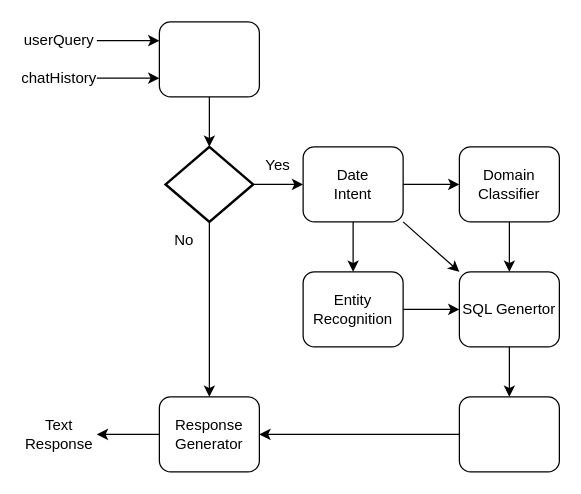
The diagram is 581 pixels wide and 494 high, and some of its shapes have lost their labels. Here are the shapes that lost their labels. From the top down, the box of each, then its label:
(158, 21, 259, 97): History Intent
(164, 145, 254, 222): Supported
(458, 396, 559, 472): Execute SQL
